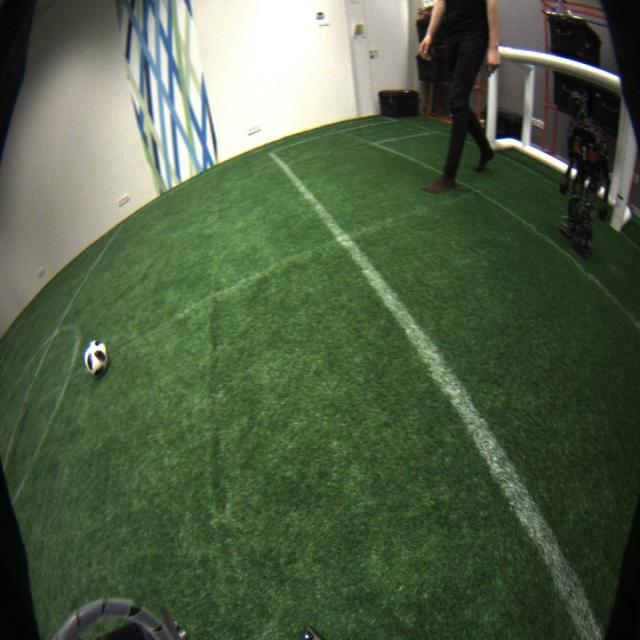ball: (84, 340, 110, 378)
goalpost: (609, 113, 638, 232), (485, 46, 499, 152)
